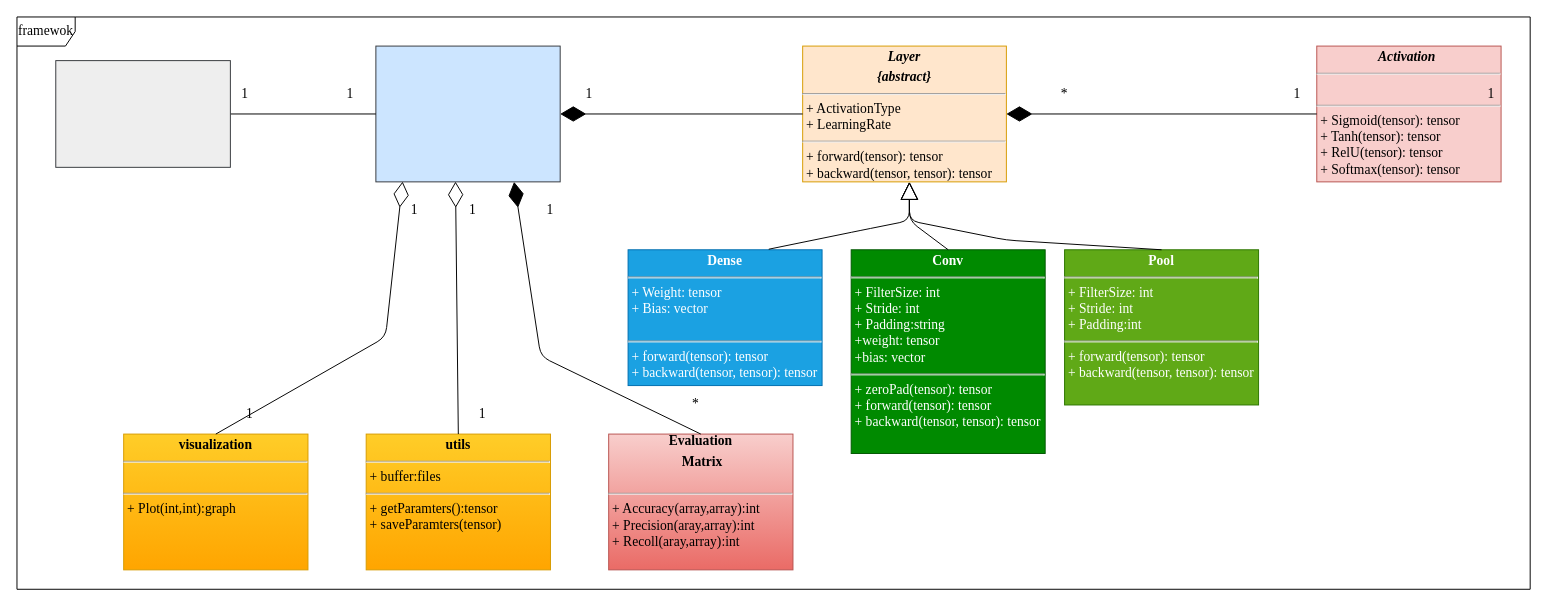
This 1547x606 diagram has some shape labels left out. The box of each missing label's shape, as (x1, y1, x2, y2) in pixels:
Data + TraningData:tensor +TestingData:tesor: + getData(files):tensor: (55, 60, 230, 167)
Model + Layers:list + add(layer): + optimize(epochs, batch size):: (375, 45, 560, 182)
